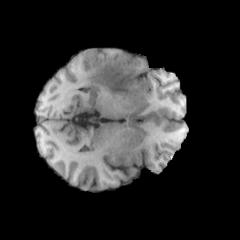glioma: (85, 54, 138, 93)
